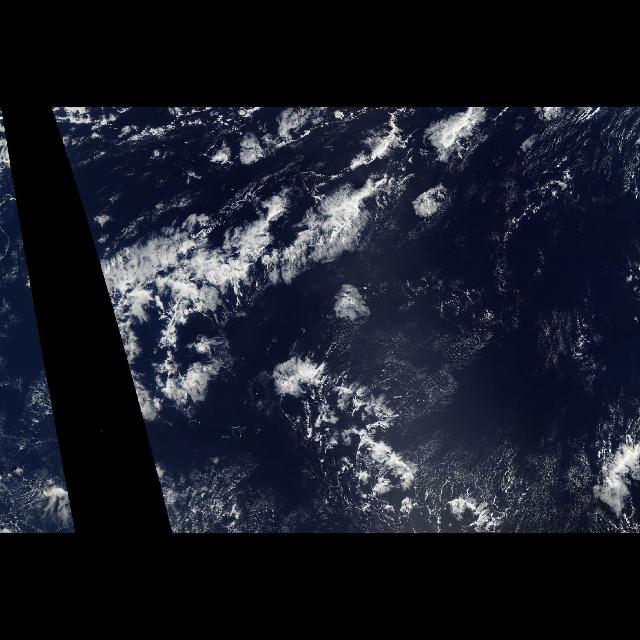Fish: (87, 119, 506, 526)
Sugar: (386, 111, 640, 496)
